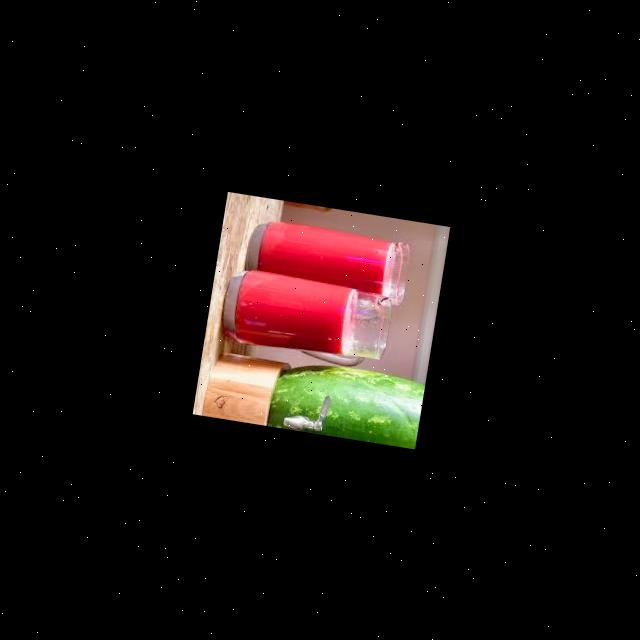watermelon: (264, 356, 424, 449)
